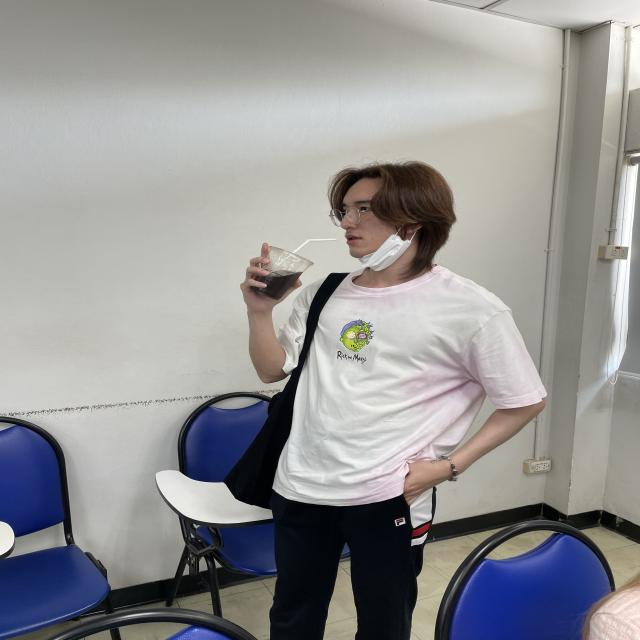cup: (253, 242, 314, 300)
